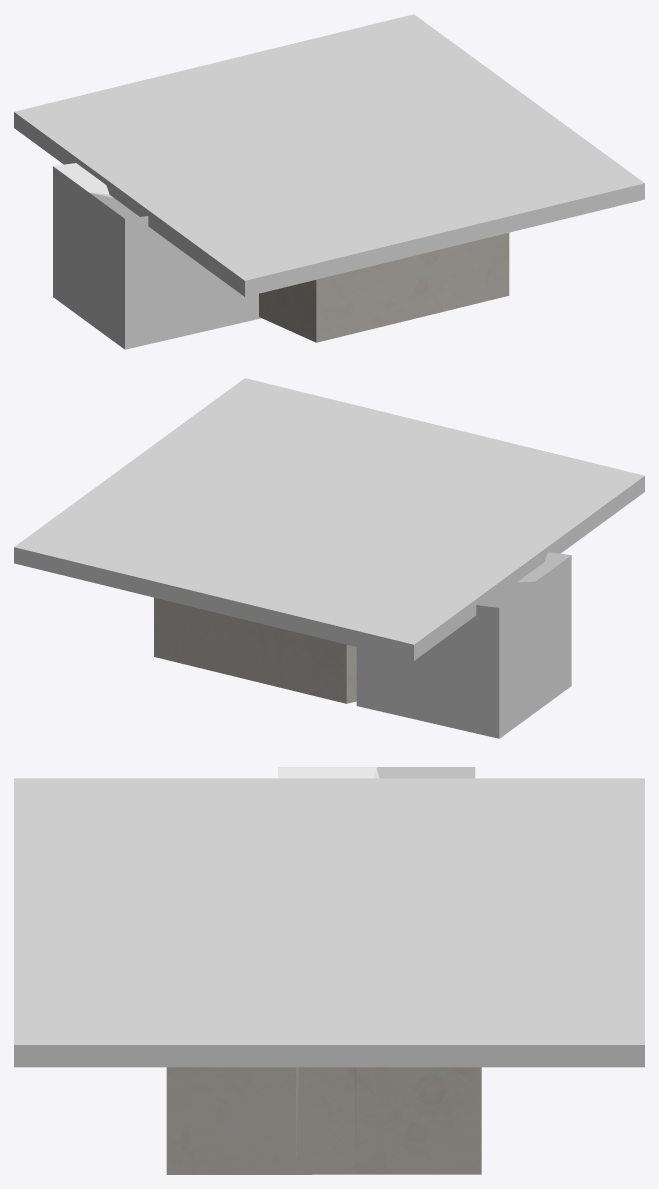
File: Room.fbx
The picture shows the model from 3 angles, top to bottom: view 1: azimuth 30°, elevation 25°; view 2: azimuth 150°, elevation 25°; view 3: azimuth 270°, elevation 25°; orthographic projection. The views are drawn at different scales.
Parts seen in each view (by area): view 1: Cube.002, Cube.001, Cube; view 2: Cube.002, Cube.001, Cube; view 3: Cube.002, Cube, Cube.001.
Part boxes in pixels (bbox=[...]): Cube.002: bbox=[14, 14, 644, 296]; Cube.001: bbox=[53, 163, 261, 349]; Cube: bbox=[259, 232, 509, 342]; Cube.002: bbox=[14, 378, 644, 660]; Cube.001: bbox=[356, 552, 571, 738]; Cube: bbox=[154, 597, 356, 703]; Cube.002: bbox=[14, 778, 644, 1067]; Cube: bbox=[166, 1067, 481, 1174]; Cube.001: bbox=[278, 767, 475, 778].
Bounding box in the file's own units: 1872 × 574 × 1769.
